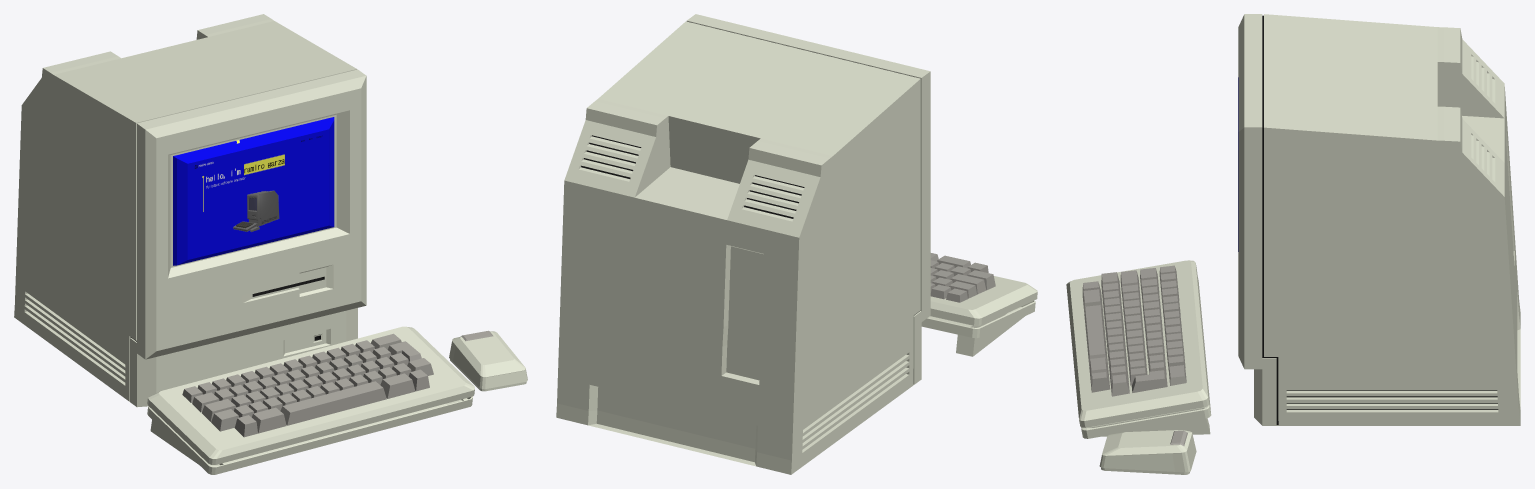
The model's file is computer2.glb.
The picture shows the model from 3 angles, left to right: view 1: azimuth 30°, elevation 25°; view 2: azimuth 150°, elevation 25°; view 3: azimuth 270°, elevation 25°; orthographic projection. The views are drawn at different scales.
Parts seen in each view (by area): view 1: Cube, Cube.006, Cube.001, Cube.003; view 2: Cube, Cube.006; view 3: Cube, Cube.006, Cube.003.
Boxes of the visible parts, bbox=[...] form: Cube: bbox=[14, 14, 366, 407]; Cube.006: bbox=[147, 326, 474, 474]; Cube.001: bbox=[173, 117, 334, 265]; Cube.003: bbox=[449, 330, 527, 391]; Cube: bbox=[556, 14, 930, 474]; Cube.006: bbox=[921, 253, 1037, 356]; Cube: bbox=[1238, 14, 1520, 425]; Cube.006: bbox=[1066, 260, 1211, 438]; Cube.003: bbox=[1099, 430, 1196, 474].
Bounding box in the file's own units: 2.11 × 1.65 × 2.28.
4 materials, 1 textured.
